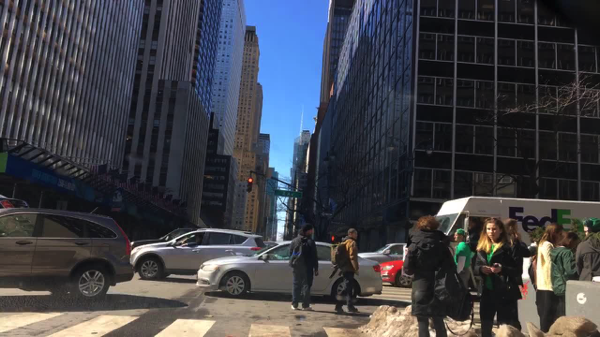car: (1, 208, 135, 306), (195, 240, 381, 302), (131, 230, 265, 282), (129, 226, 197, 250), (357, 243, 407, 266), (380, 258, 414, 287), (1, 193, 28, 209)
person: (397, 214, 476, 336), (472, 217, 518, 336), (528, 222, 564, 332), (502, 218, 530, 330), (289, 223, 321, 314), (329, 228, 362, 316), (548, 228, 577, 320), (452, 228, 473, 290), (573, 230, 598, 280), (581, 219, 593, 238)
traffic light: (246, 176, 254, 194), (329, 233, 336, 245)
traffic sign: (273, 189, 303, 199), (266, 178, 275, 194)
truck: (433, 195, 599, 284)
